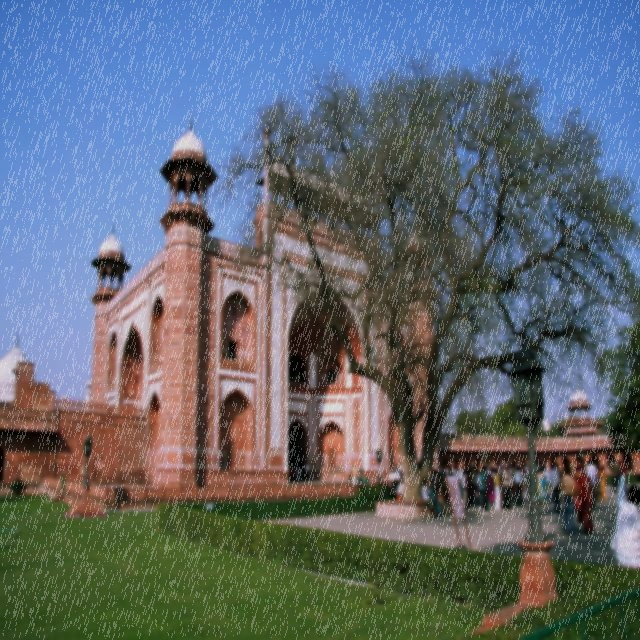pessoa: (610, 467, 640, 572), (431, 461, 484, 509), (509, 455, 552, 510), (572, 463, 596, 535), (558, 463, 579, 539), (546, 461, 562, 517), (431, 478, 452, 515), (499, 461, 514, 512), (586, 458, 600, 509), (486, 461, 504, 500), (426, 480, 444, 517), (421, 477, 436, 519), (492, 466, 503, 513), (607, 455, 619, 495), (480, 464, 490, 512), (596, 463, 608, 503), (514, 465, 524, 507), (620, 458, 630, 498), (554, 462, 562, 507), (570, 455, 580, 486), (326, 360, 338, 385), (615, 459, 624, 486), (387, 468, 397, 489), (302, 460, 310, 482), (350, 465, 358, 487), (394, 468, 401, 492), (397, 479, 405, 500), (490, 467, 496, 494), (356, 466, 364, 486), (294, 463, 302, 482), (287, 462, 294, 482), (377, 462, 382, 485), (292, 371, 300, 382), (399, 466, 404, 482), (394, 463, 400, 474)
